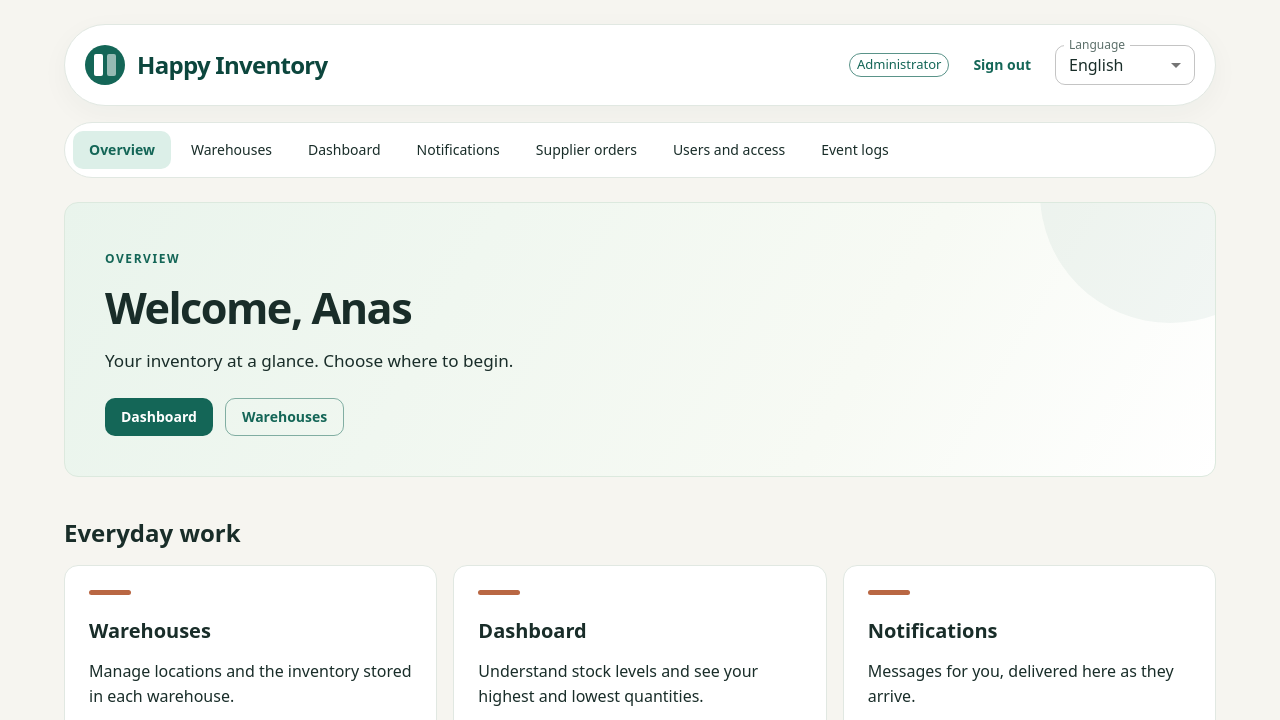
Scenario: Phase 3 session UI › signs out and returns to login
The width and height of the screenshot is (1280, 720).
Expected: the heading "Welcome, Anas" is shown, [105,278,411,337]
Click the button "Sign out": (1002, 65) [957,46,1047,84]
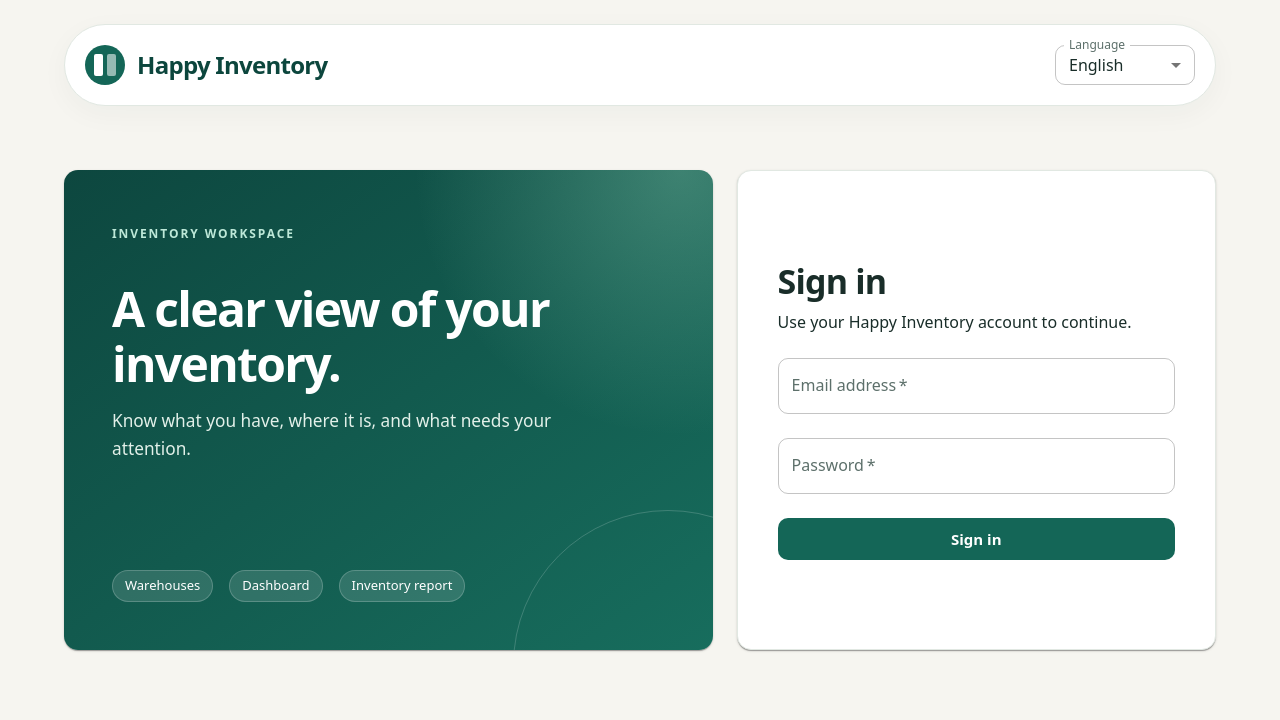
Expected: the heading "Sign in" is shown, [778,258,886,304]
